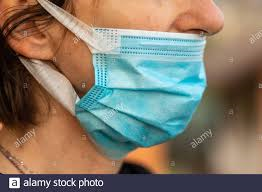mask_weared_incorrect: (1, 1, 230, 157)
